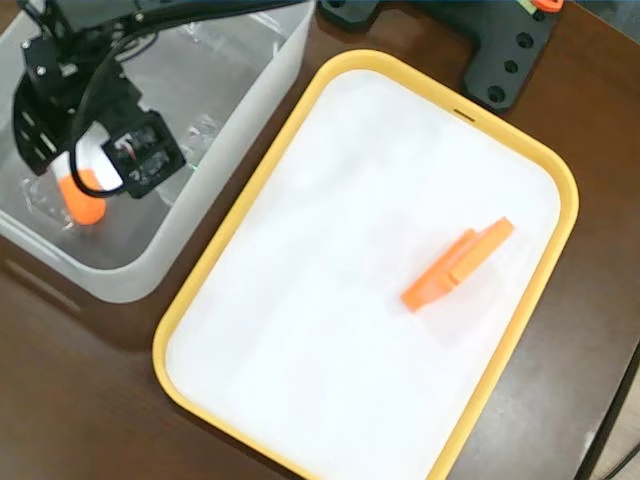pill: (50, 155, 109, 222)
